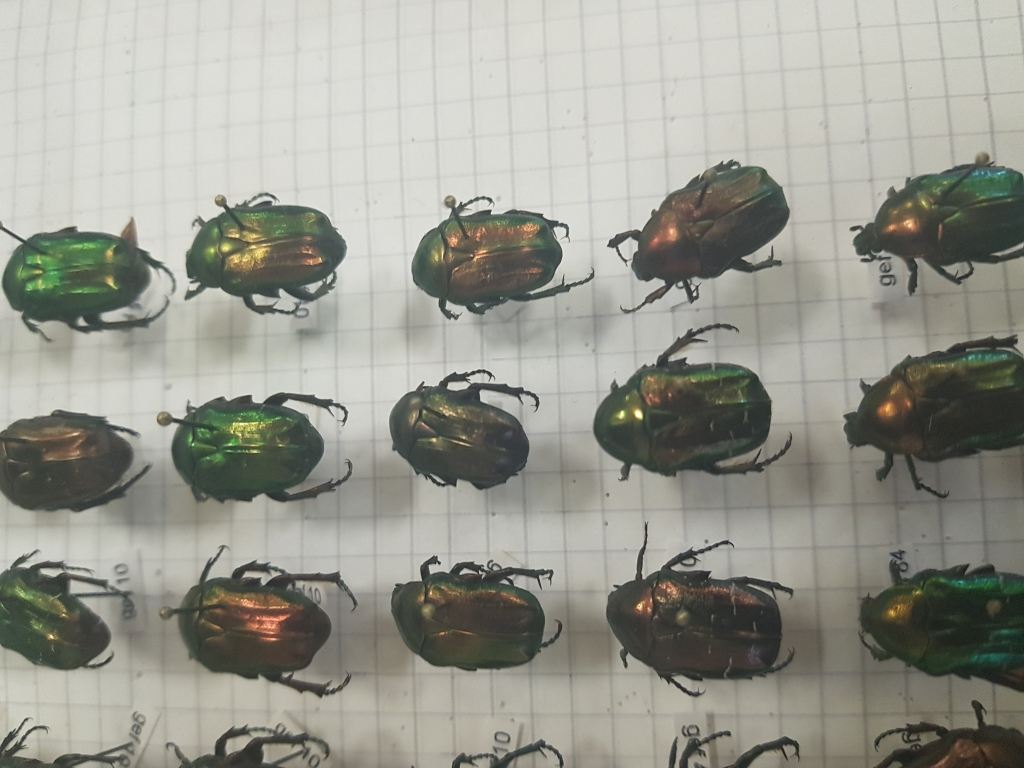Cetonia_aurata: (168, 197, 360, 330), (379, 365, 542, 498)
